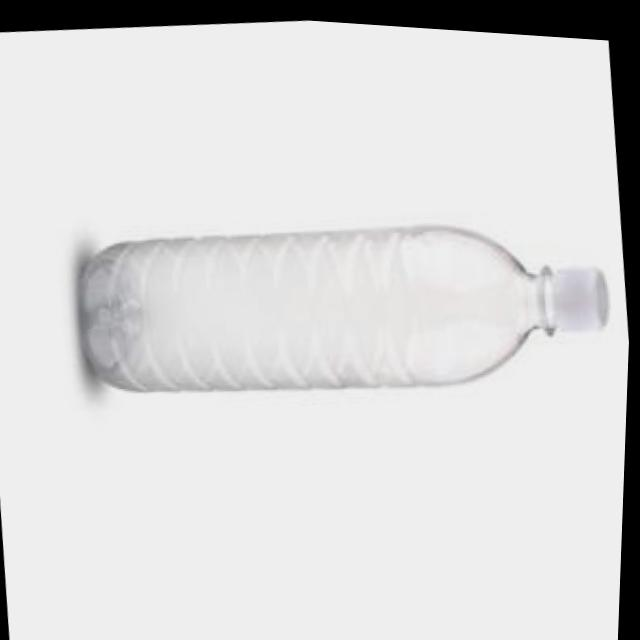anorganik: (61, 158, 636, 441)
